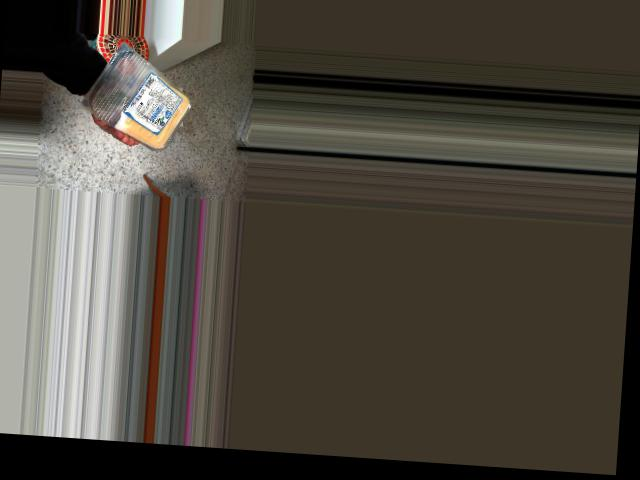cheese: (90, 50, 198, 145)
